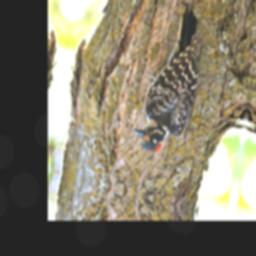Woodpecker: (131, 0, 205, 163)
